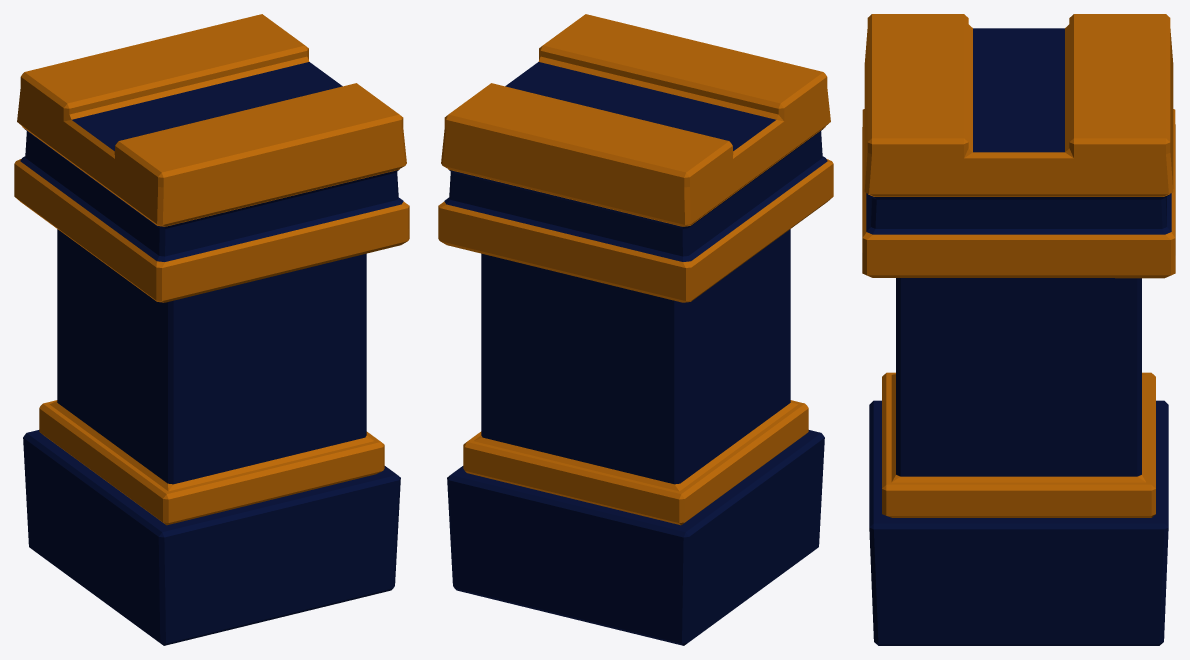
File: OutLineWall.fbx
The picture shows the model from 3 angles, left to right: view 1: azimuth 30°, elevation 25°; view 2: azimuth 150°, elevation 25°; view 3: azimuth 270°, elevation 25°; orthographic projection. The views are drawn at different scales.
Parts seen in each view (by area): view 1: Cube; view 2: Cube; view 3: Cube.
Part boxes in pixels (box(x1,y1,x2,y2)): Cube: box(14, 14, 409, 645); Cube: box(438, 14, 833, 645); Cube: box(862, 14, 1175, 645).
Bounding box in the file's own units: 255 × 458 × 255.
